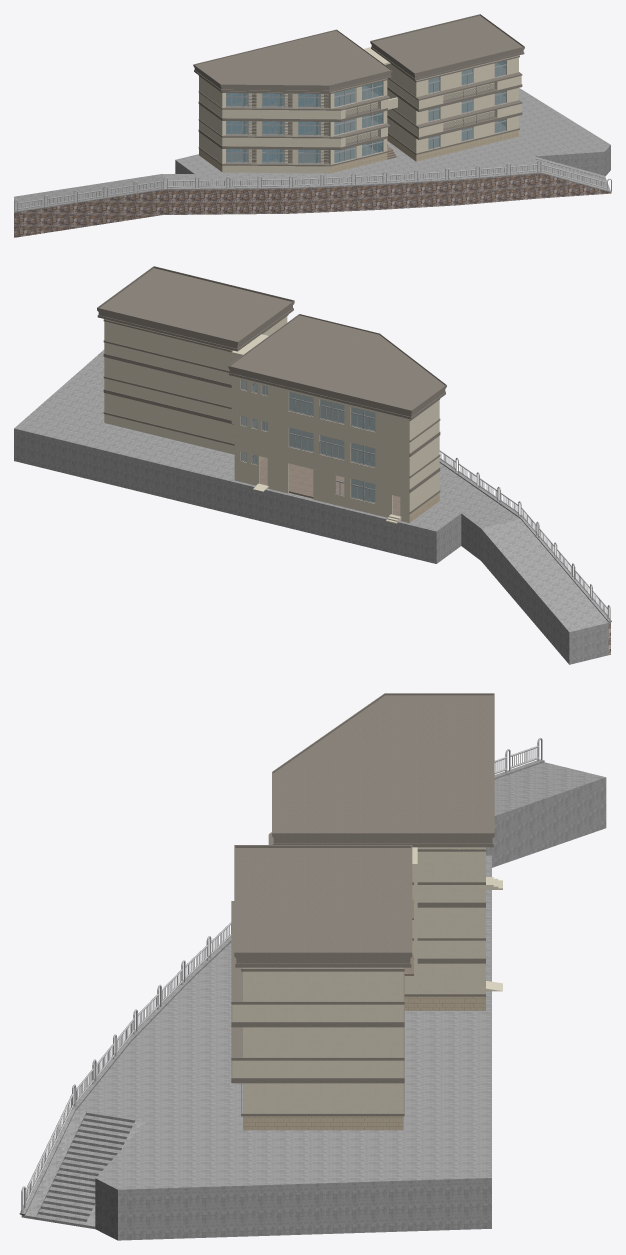
File: gzl_yiyuan.FBX
The picture shows the model from 3 angles, top to bottom: view 1: azimuth 30°, elevation 25°; view 2: azimuth 150°, elevation 25°; view 3: azimuth 270°, elevation 25°; orthographic projection. The views are drawn at different scales.
Parts seen in each view (by area): view 1: gzl_yiyuan; view 2: gzl_yiyuan; view 3: gzl_yiyuan.
Boxes of the visible parts, x1,y1,x2,y2 form: gzl_yiyuan: (14, 14, 611, 237); gzl_yiyuan: (14, 266, 611, 664); gzl_yiyuan: (19, 693, 606, 1240).
Size of the model in its own units: 60664 by 16706 by 31366.
